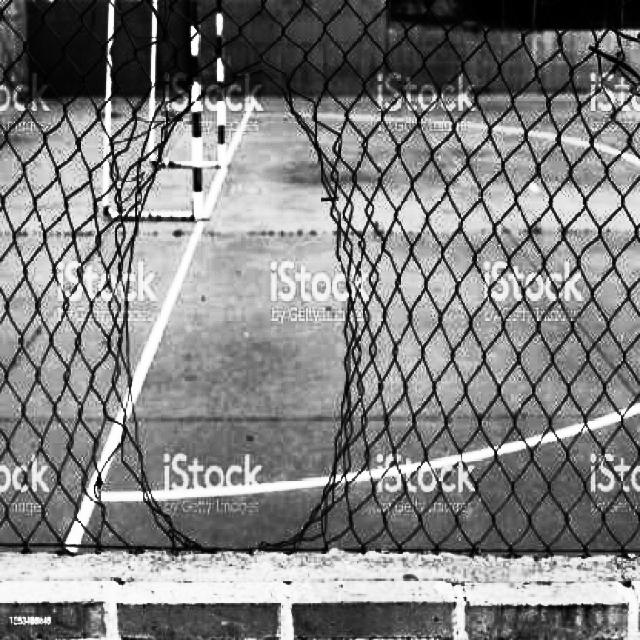anomaly-fence: (87, 29, 376, 549)
